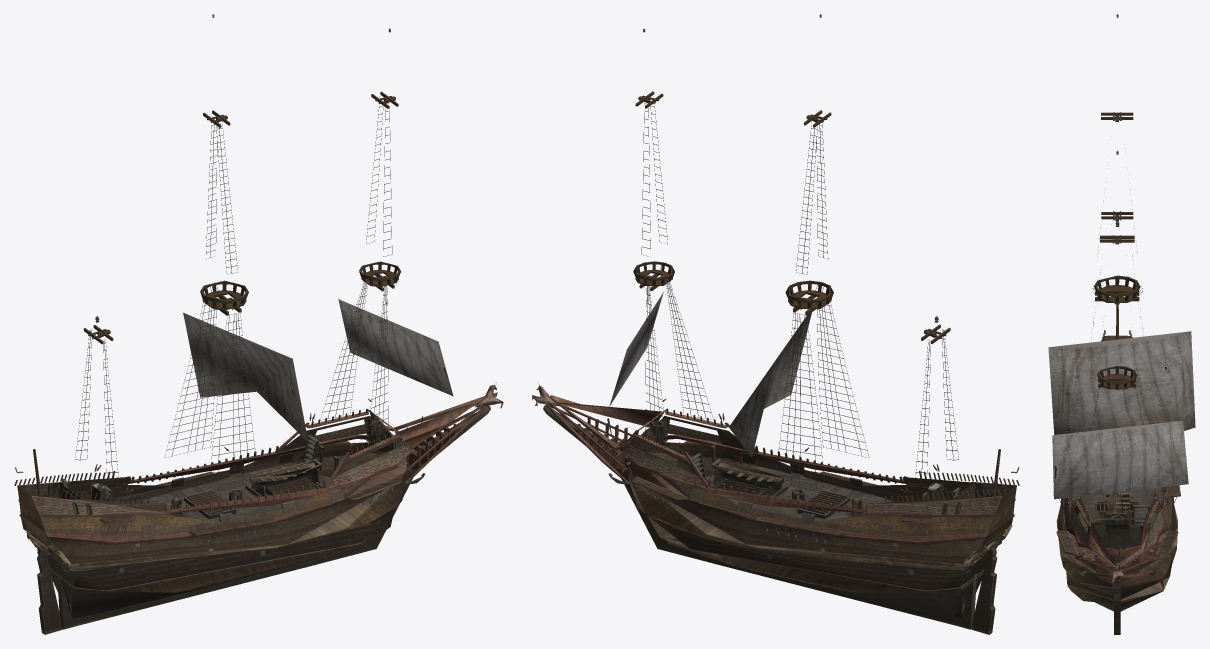
Rendered from navire.glb.
3 views of the same model, side by side, from view 1: azimuth 30°, elevation 25°; view 2: azimuth 150°, elevation 25°; view 3: azimuth 270°, elevation 25° (orthographic). The views are drawn at different scales.
Visible parts, largest first — view 1: dutch_ship_medium_hull, dutch_ship_medium_sails, dutch_ship_medium_rigging; view 2: dutch_ship_medium_hull, dutch_ship_medium_rigging, dutch_ship_medium_sails; view 3: dutch_ship_medium_sails, dutch_ship_medium_hull, dutch_ship_medium_rigging.
Boxes of the visible parts, x1,y1,x2,y2 form: dutch_ship_medium_hull: (14, 382, 503, 634); dutch_ship_medium_sails: (183, 299, 453, 442); dutch_ship_medium_rigging: (33, 14, 425, 543); dutch_ship_medium_hull: (532, 382, 1019, 634); dutch_ship_medium_rigging: (607, 14, 1000, 544); dutch_ship_medium_sails: (609, 292, 811, 457); dutch_ship_medium_sails: (1048, 331, 1195, 499); dutch_ship_medium_hull: (1053, 330, 1180, 634); dutch_ship_medium_rigging: (1059, 14, 1176, 576).
Bounding box in the file's own units: 21.69 × 24.66 × 5.97.
Materials: 3 (3 with a texture image).
